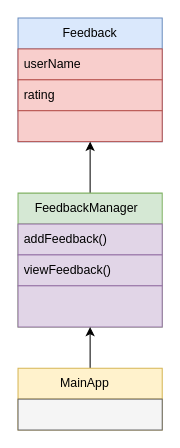
Image size: 180x448. Some labels were removed from this diagram. The centre of each missing label's shape, as x and y in pixels:
"comment" goes at point 89,126.
"main()" goes at point 89,414.
"updateFeedback()" goes at point 89,306.
